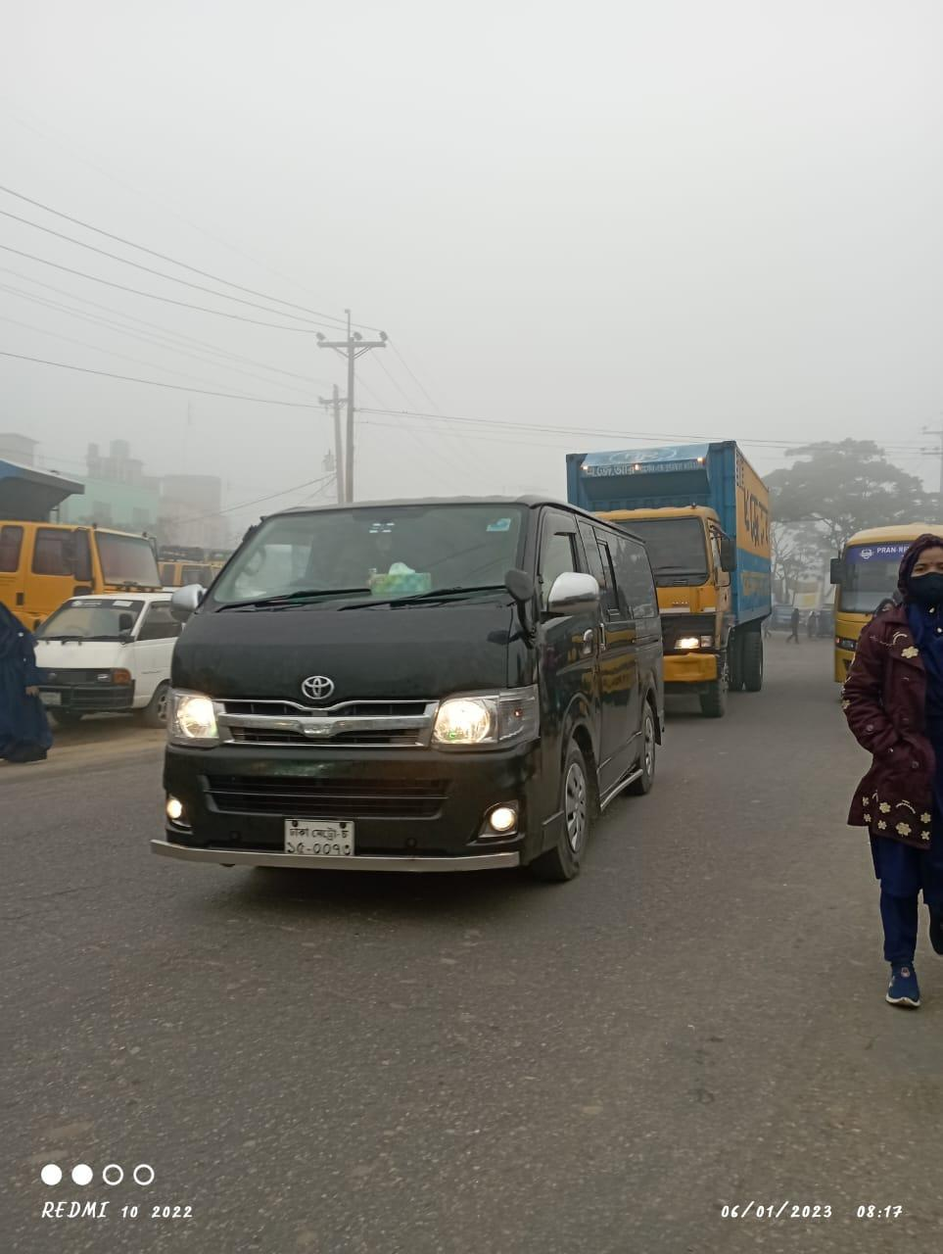Bus: (826, 516, 943, 702)
Car: (138, 491, 670, 891), (24, 577, 194, 740)
Truck: (553, 442, 780, 714), (4, 448, 162, 638)
